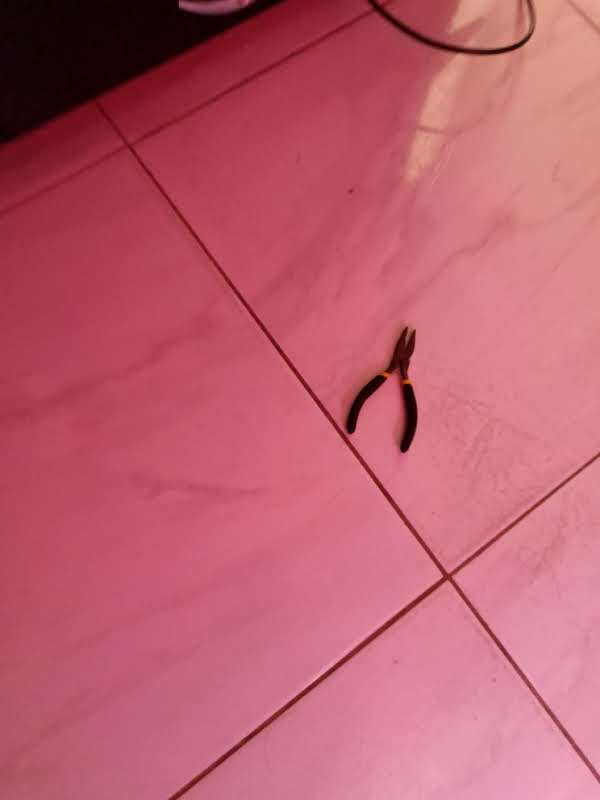Pinzas: (346, 326, 417, 452)
